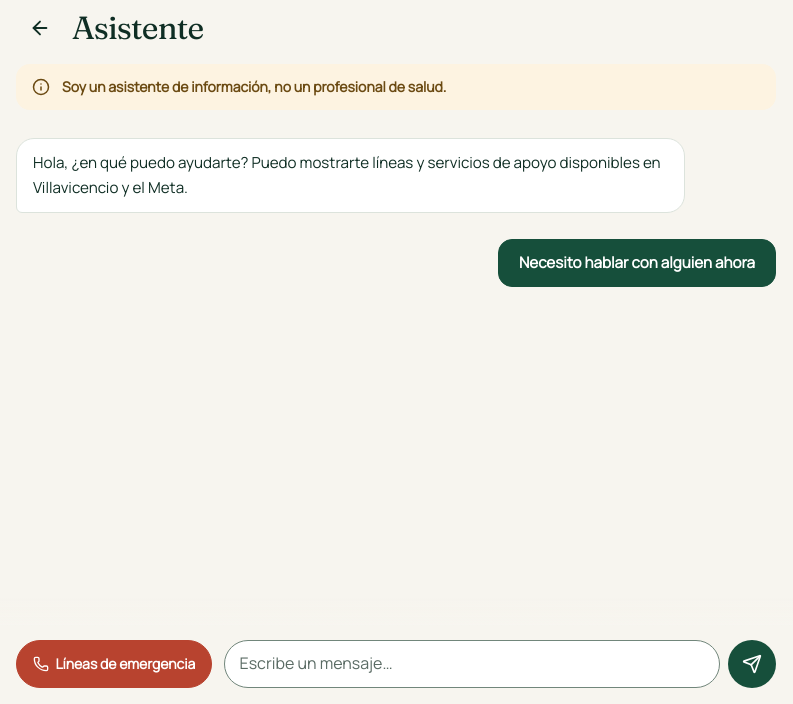
Test: asistente › si la API falla, ofrece las líneas de apoyo
This screenshot has width=793, height=704.
Type "Hola" into the field labelled "Escribe un mensaje" at (472,664), box [224,640,720,688]
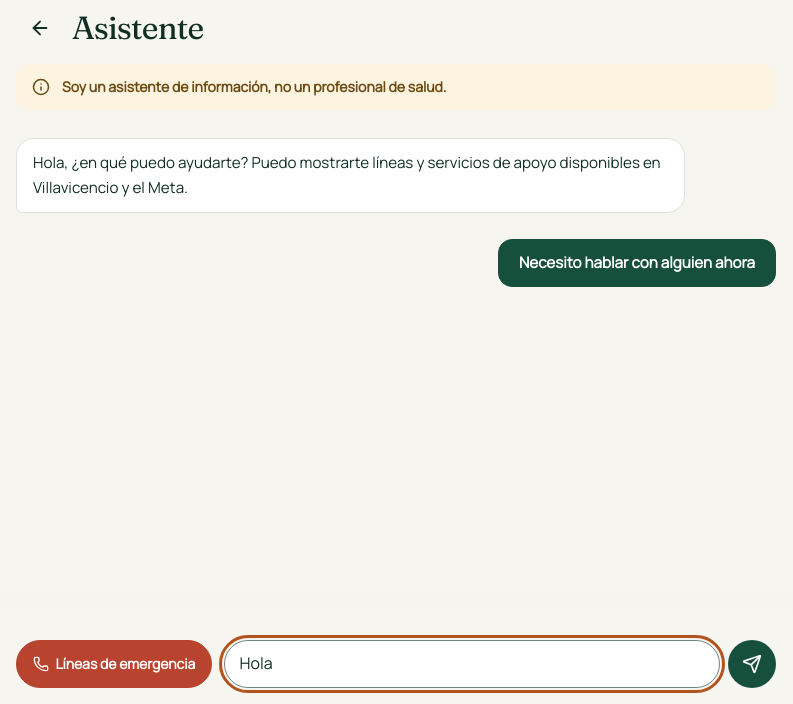
Click the button named "Enviar mensaje" at (752,664), box [728,640,776,688]
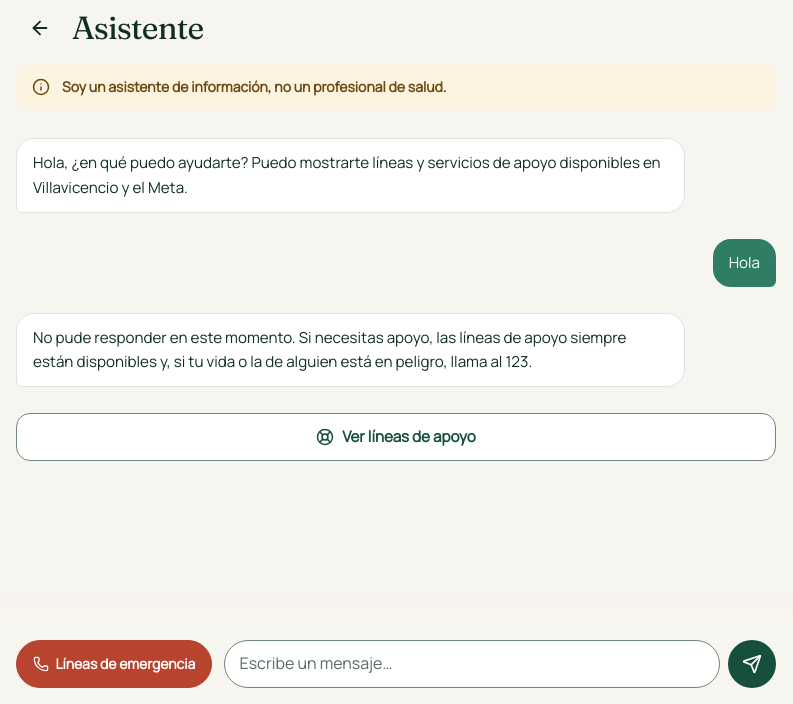
expect the text "No pude responder en este momento" is shown: met, box [33,326,626,372]
